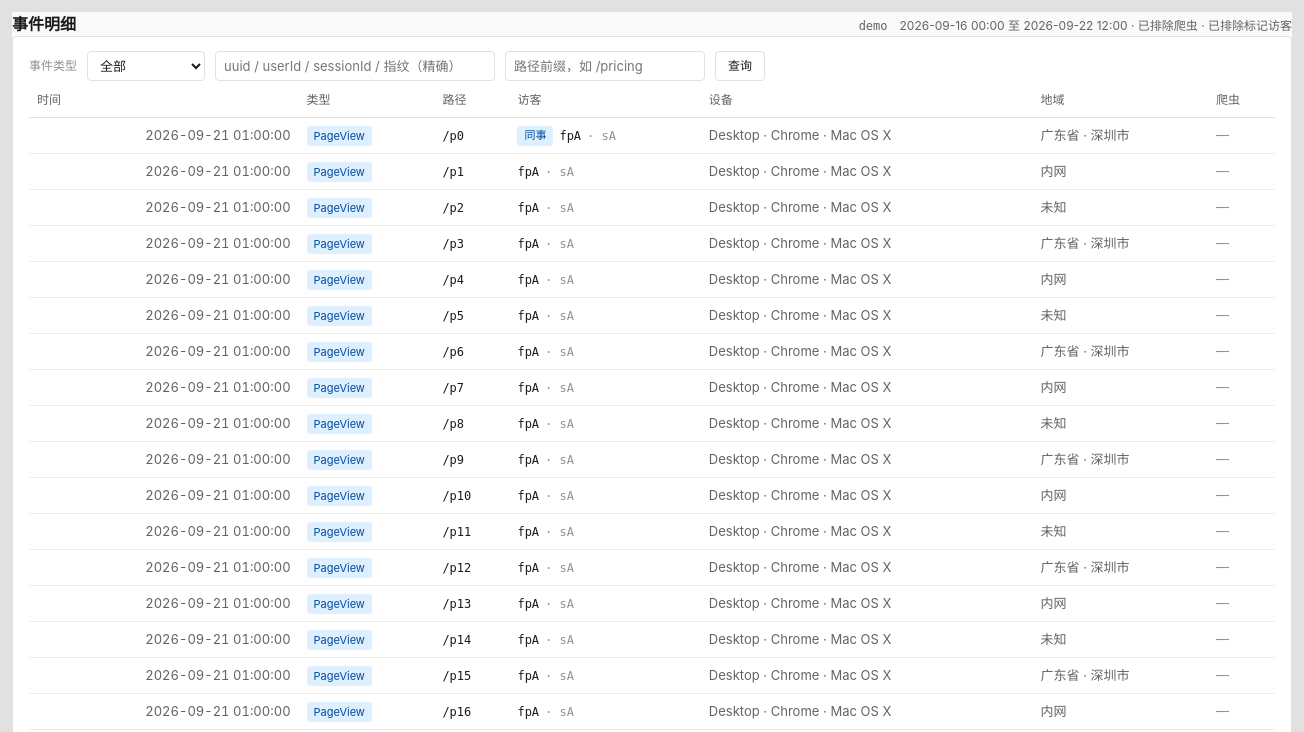
Test case: 事件明细板块 › 类型过滤带入请求，点击行展开 trackData
The width and height of the screenshot is (1304, 732).
Expected: the text "/p0" is shown, [434,118,509,154]
Select "Error" in the dropdown labelled "事件类型": (146, 66) [87,51,205,81]
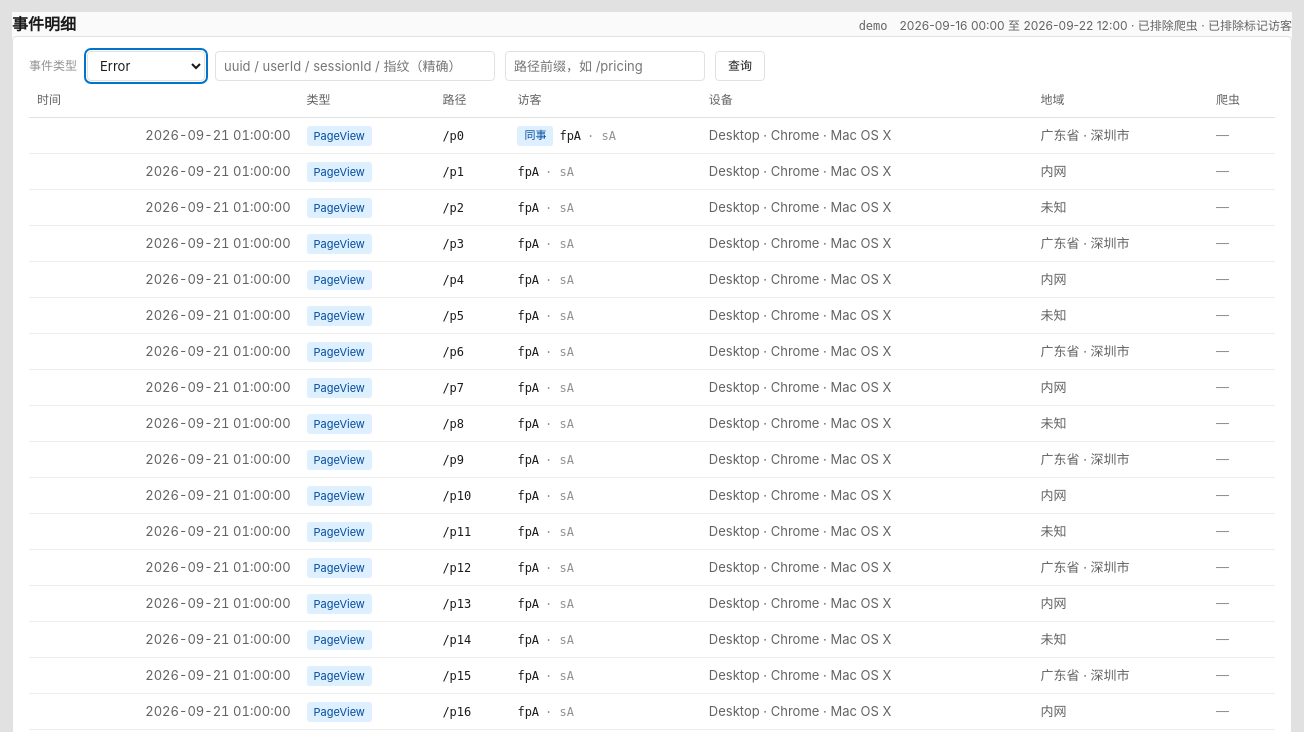
Click the text "/p0": (472, 136) [434,118,509,154]
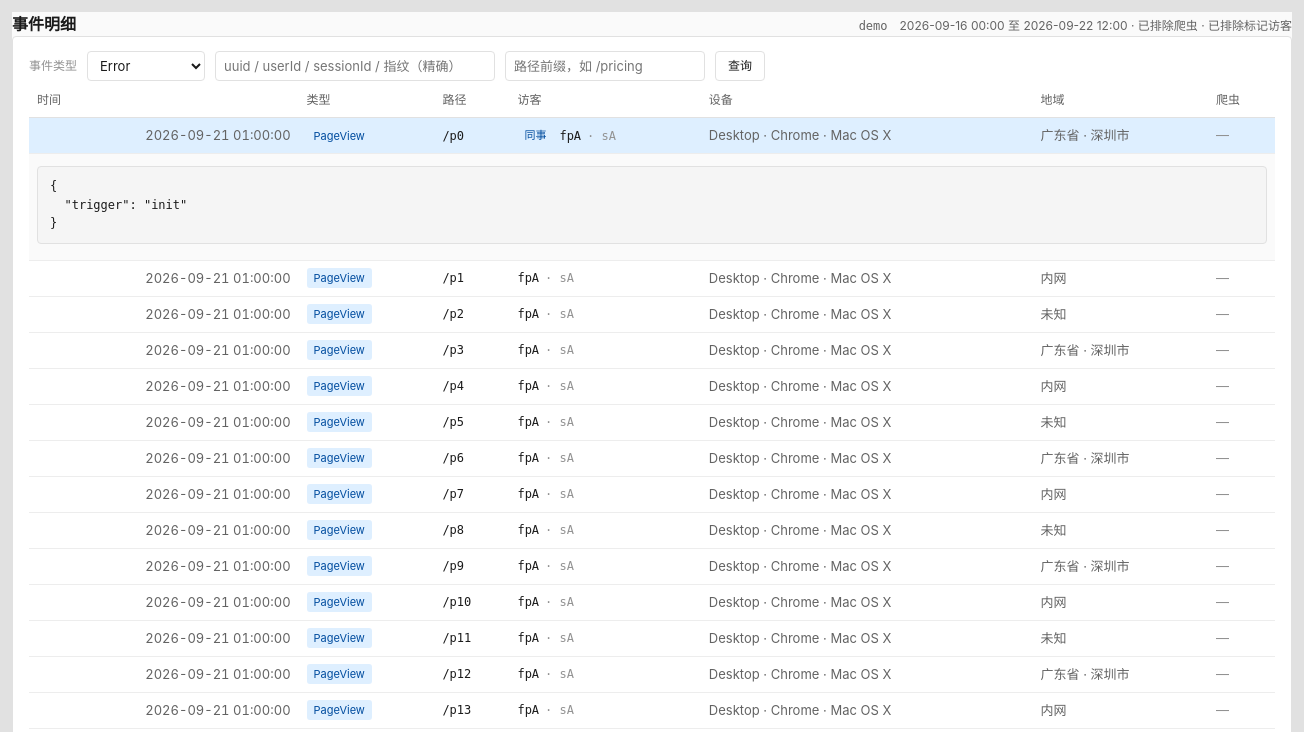
Expected: the text "{ \"trigger\": \"init\" }" is shown, [37,166,1267,244]
